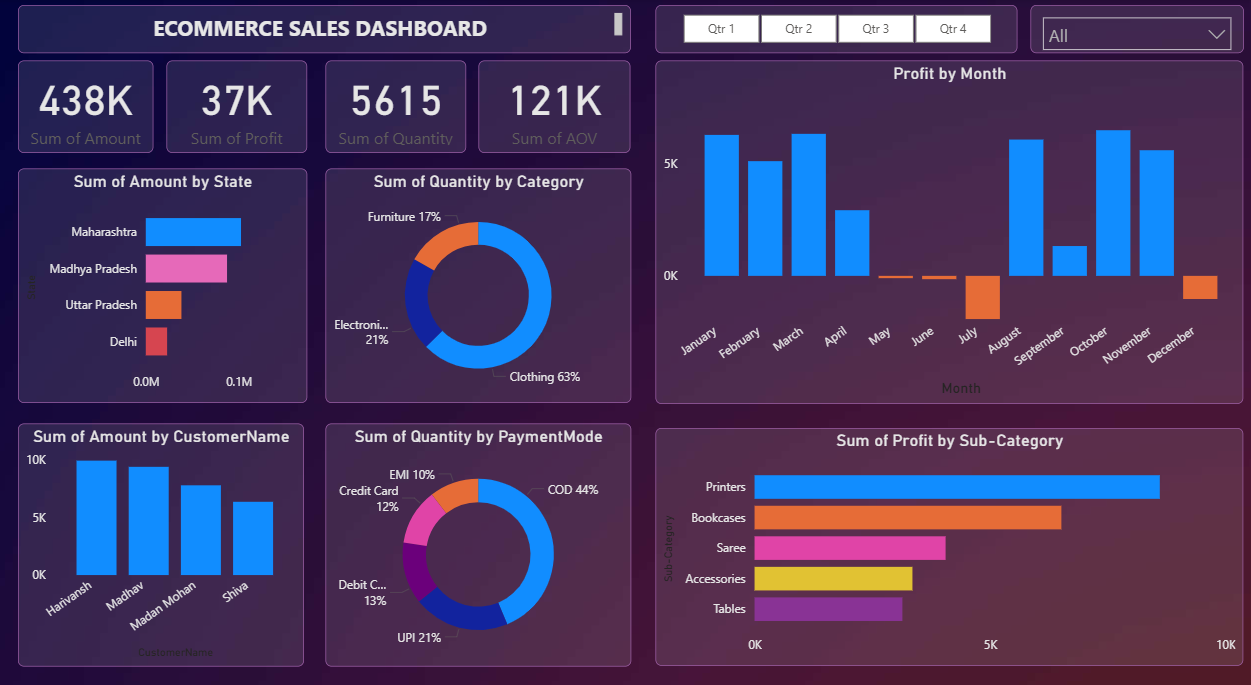

The dashboard page shown, as its layout file describes it:
{"tool":"powerbi","page":{"name":"Page 1","canvas":[1280,720],"ordinal":0},"visuals":[{"type":"textbox","box":[21.7,6.7,618.3,48.3],"z":0},{"type":"columnChart","title":"Profit by Month","fields":{"Y":["Details.Profit"],"Category":["Orders.Order Date.Variation.Date Hierarchy.Month"]},"box":[665,61.7,593.3,346.7],"z":1000},{"type":"barChart","fields":{"Category":["Details.Sub-Category"],"Y":["Details.Profit"]},"box":[665,433.3,593.3,240],"z":2000},{"type":"donutChart","fields":{"Category":["Details.Category"],"Y":["Details.Quantity"]},"box":[331.7,171.7,308.3,236.7],"z":3000},{"type":"donutChart","fields":{"Y":["Details.Quantity"],"Category":["Details.PaymentMode"]},"box":[331.7,428.3,308.3,245],"z":4000},{"type":"card","fields":{"Values":["Details.Amount"]},"box":[21.7,61.7,136.7,93.3],"z":5000},{"type":"card","fields":{"Values":["Details.Profit"]},"box":[171.7,61.7,141.7,93.3],"z":6000},{"type":"card","fields":{"Values":["Details.Quantity"]},"box":[331.7,61.7,141.7,93.3],"z":7000},{"type":"card","fields":{"Values":["Details.AOV"]},"box":[486.7,61.7,153.3,93.3],"z":8000},{"type":"barChart","fields":{"Category":["Orders.State"],"Y":["Details.Amount"]},"box":[21.7,171.7,291.7,236.7],"z":9000},{"type":"columnChart","fields":{"Category":["Orders.CustomerName"],"Y":["Details.Amount"]},"box":[21.7,428.3,288.3,245],"z":10000},{"type":"slicer","fields":{"Values":["Orders.Order Date.Variation.Date Hierarchy.Quarter"]},"box":[665,6.7,365,48.3],"z":11000},{"type":"slicer","fields":{"Values":["Orders.State"]},"box":[1043.3,6.7,215,48.3],"z":12000}]}

Visuals, with their boxes in screenshot pixels (x1, y1, x2, y2), scaled from the page's 1280x720 canvas onto the 1251x685 screenshot:
textbox: <bbox>21, 6, 626, 52</bbox>
"Profit by Month" columnChart: <bbox>650, 59, 1230, 389</bbox>
barChart - Details.Sub-Category x Details.Profit: <bbox>650, 412, 1230, 641</bbox>
donutChart - Details.Category x Details.Quantity: <bbox>324, 163, 626, 389</bbox>
donutChart - Details.Quantity x Details.PaymentMode: <bbox>324, 407, 626, 641</bbox>
card - Details.Amount: <bbox>21, 59, 155, 147</bbox>
card - Details.Profit: <bbox>168, 59, 306, 147</bbox>
card - Details.Quantity: <bbox>324, 59, 463, 147</bbox>
card - Details.AOV: <bbox>476, 59, 626, 147</bbox>
barChart - Orders.State x Details.Amount: <bbox>21, 163, 306, 389</bbox>
columnChart - Orders.CustomerName x Details.Amount: <bbox>21, 407, 303, 641</bbox>
slicer - Orders.Order Date.Variation.Date Hierarchy.Quarter: <bbox>650, 6, 1007, 52</bbox>
slicer - Orders.State: <bbox>1020, 6, 1230, 52</bbox>
